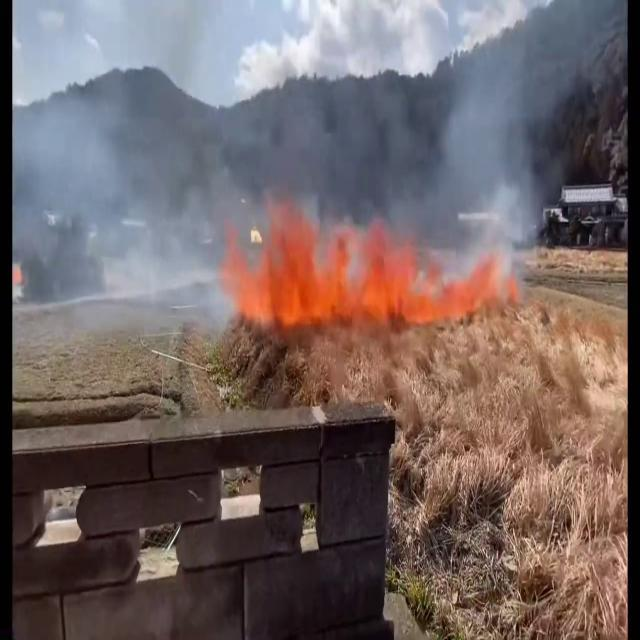Fire: (232, 194, 498, 330)
Smoke: (12, 51, 252, 374), (410, 2, 596, 264)
